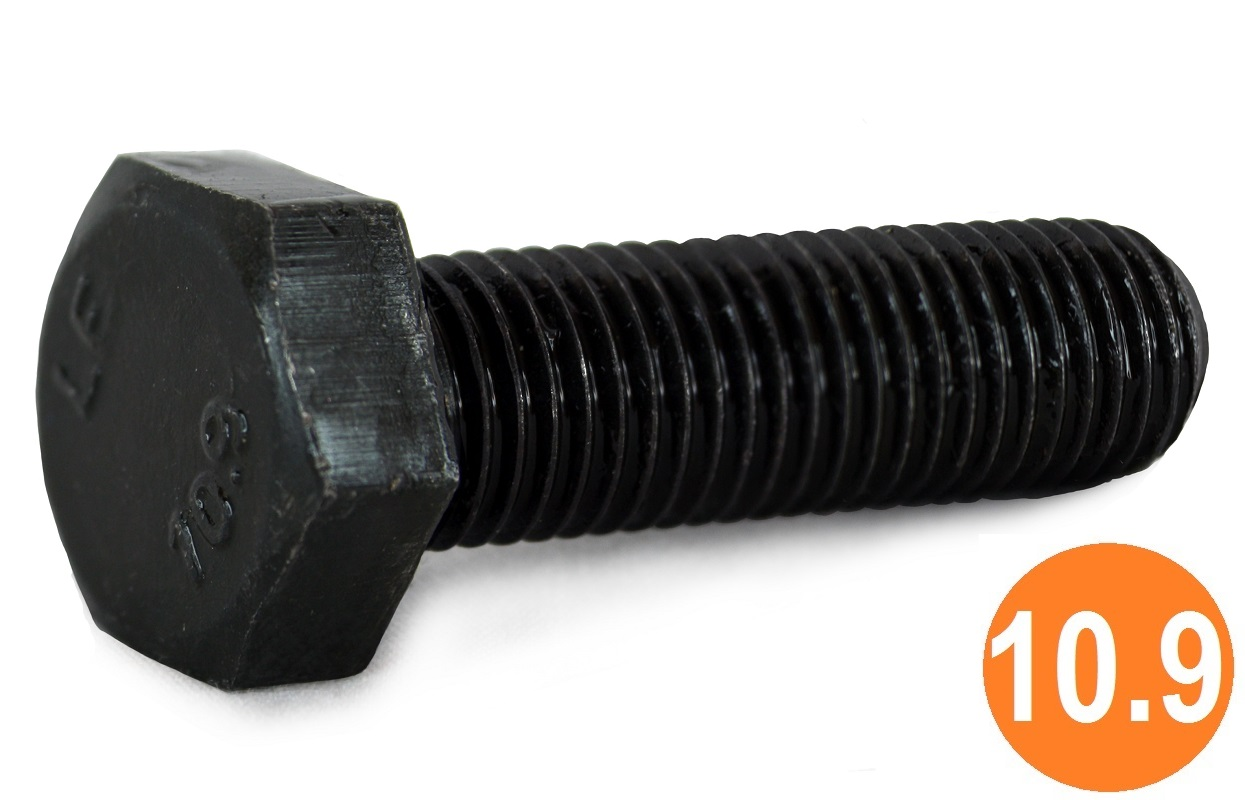screw: (32, 151, 1212, 694)
